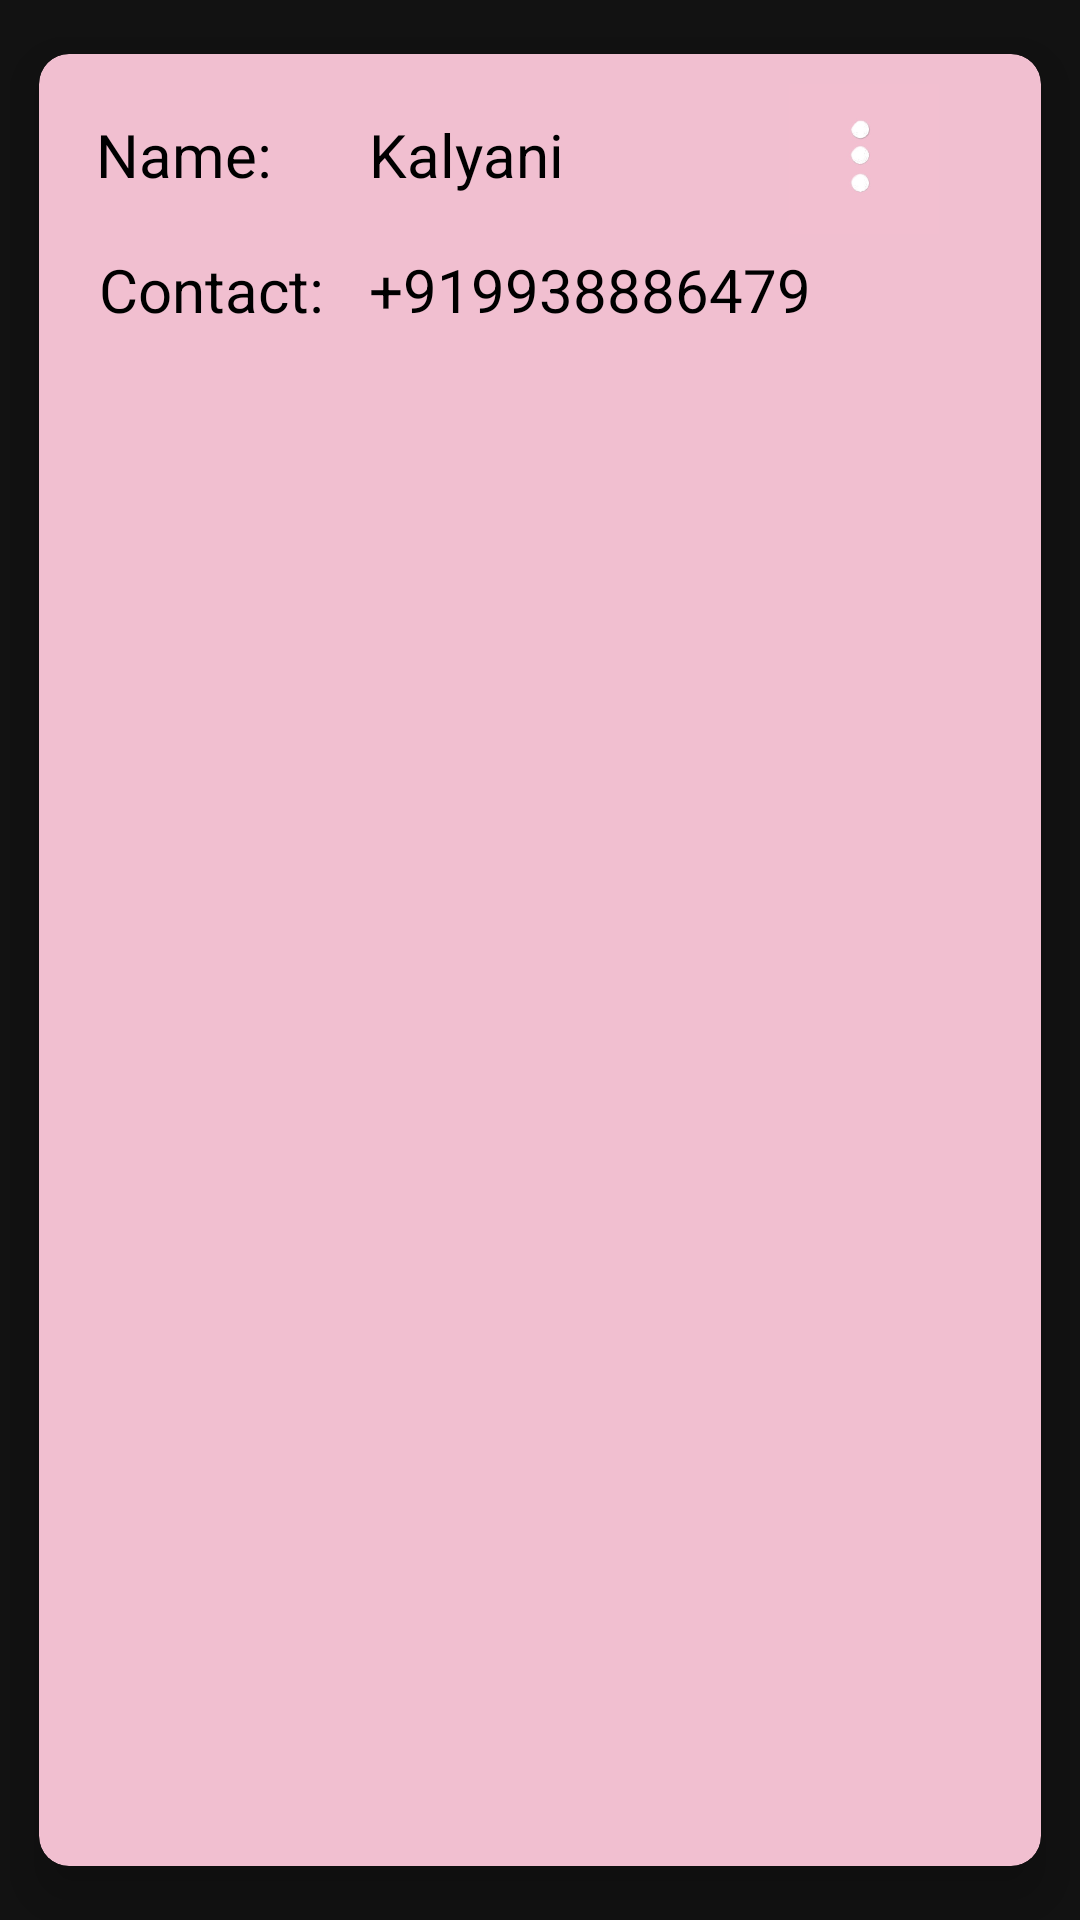

Icon bounding boxes for this 1080px×1920px phone screenshot, format [x1=x1, y1=y1, x2=x2, y2=y2]:
menu: [x1=851, y1=121, x2=870, y2=192]
